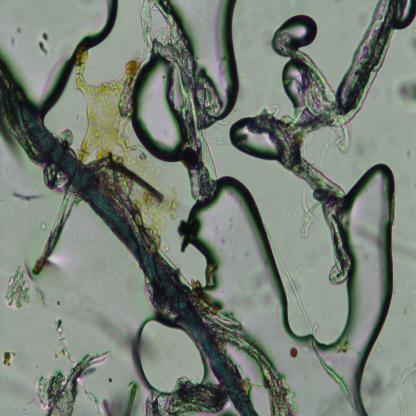Air bubble: (184, 179, 292, 330), (332, 158, 403, 363), (0, 0, 118, 108), (168, 2, 243, 114), (132, 316, 207, 395), (133, 55, 188, 159), (228, 114, 280, 164), (275, 14, 319, 50)
Background material: (77, 58, 168, 206), (77, 293, 145, 354), (5, 264, 32, 312), (366, 364, 394, 406), (52, 309, 72, 355), (36, 29, 56, 58), (124, 380, 138, 415), (405, 25, 416, 59), (1, 346, 17, 367), (8, 27, 22, 48), (288, 347, 298, 358), (406, 146, 414, 159)
Cellulose filter fibre: (270, 2, 399, 284), (138, 0, 220, 202), (209, 315, 294, 415), (263, 226, 318, 336), (34, 346, 110, 416), (32, 186, 78, 276), (314, 346, 356, 412), (167, 376, 231, 412), (392, 364, 416, 415), (299, 184, 322, 236), (396, 77, 416, 108)
Microfibre: (0, 65, 257, 415)
